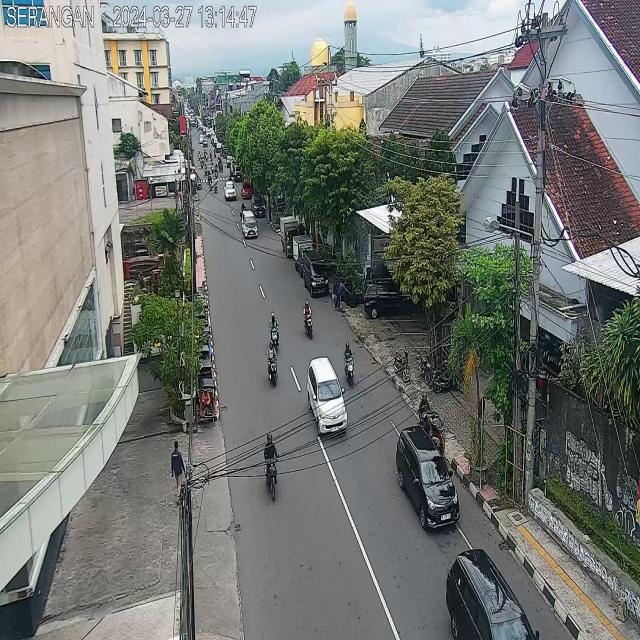car: (446, 545, 537, 640), (394, 426, 461, 530), (307, 356, 348, 436), (304, 250, 330, 297), (242, 210, 259, 237), (250, 194, 266, 218), (224, 180, 237, 201), (242, 182, 252, 198)
motorcycle: (263, 431, 281, 505), (266, 340, 280, 390), (301, 297, 316, 340), (343, 339, 355, 391), (269, 311, 282, 354)
truck: (280, 216, 299, 258), (294, 234, 312, 277)
